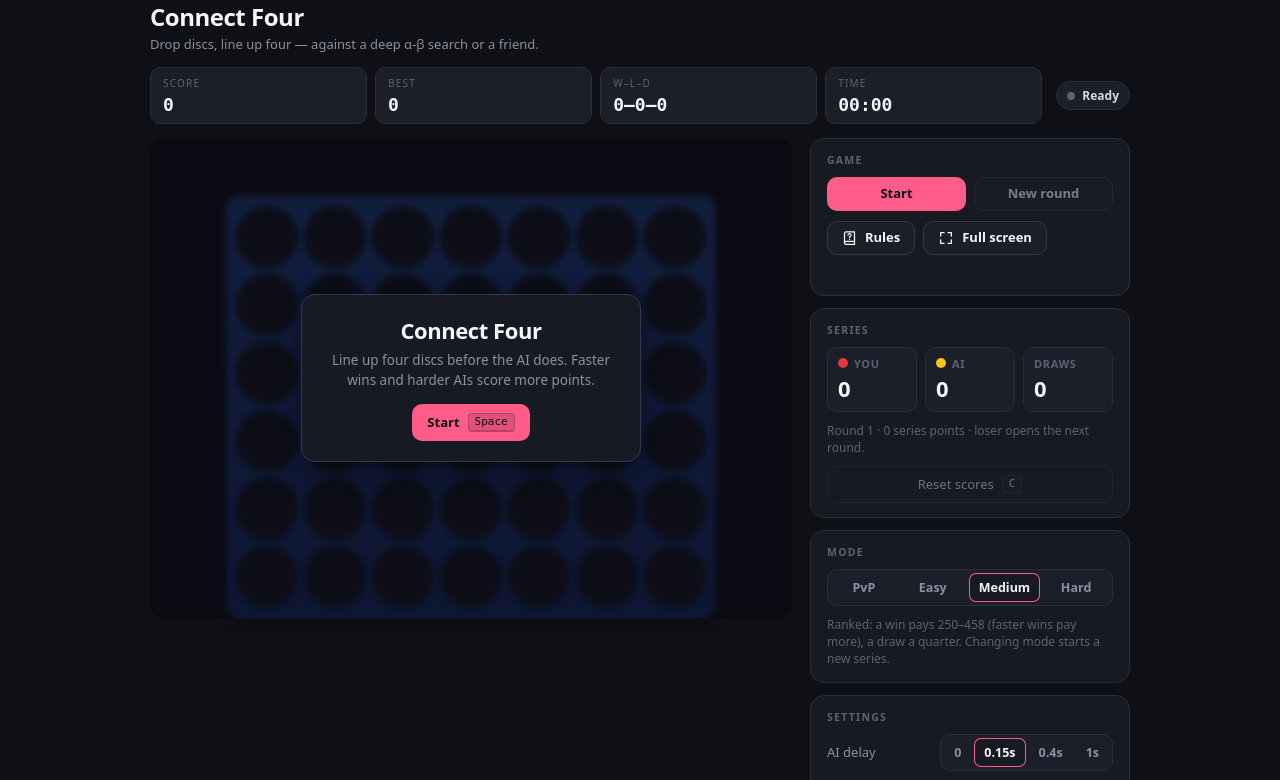
it: <ConnectFourGame /> › a click drops into that column; clicks during the AI turn are ignored
Step 1. Press Space
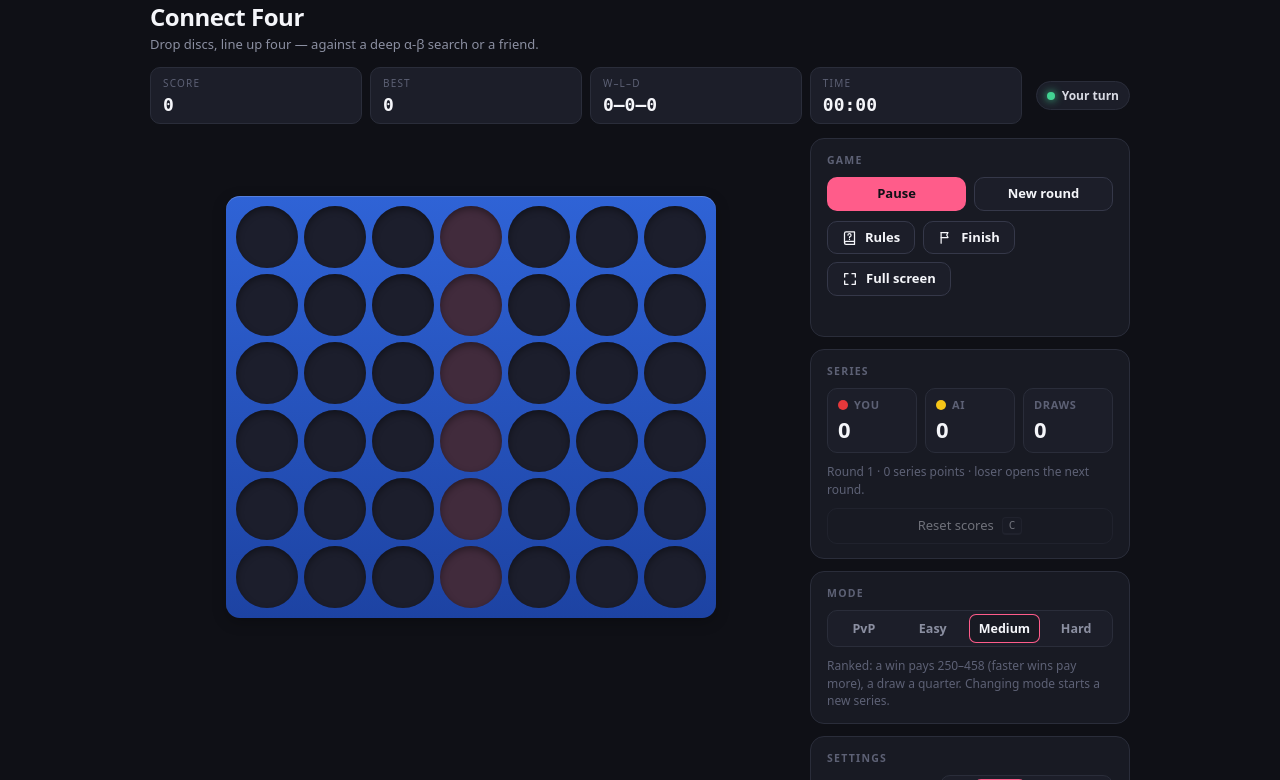
Step 2. Click the button named "Column 2, empty" → {"x": 335, "y": 373}, box [304,138,366,608]
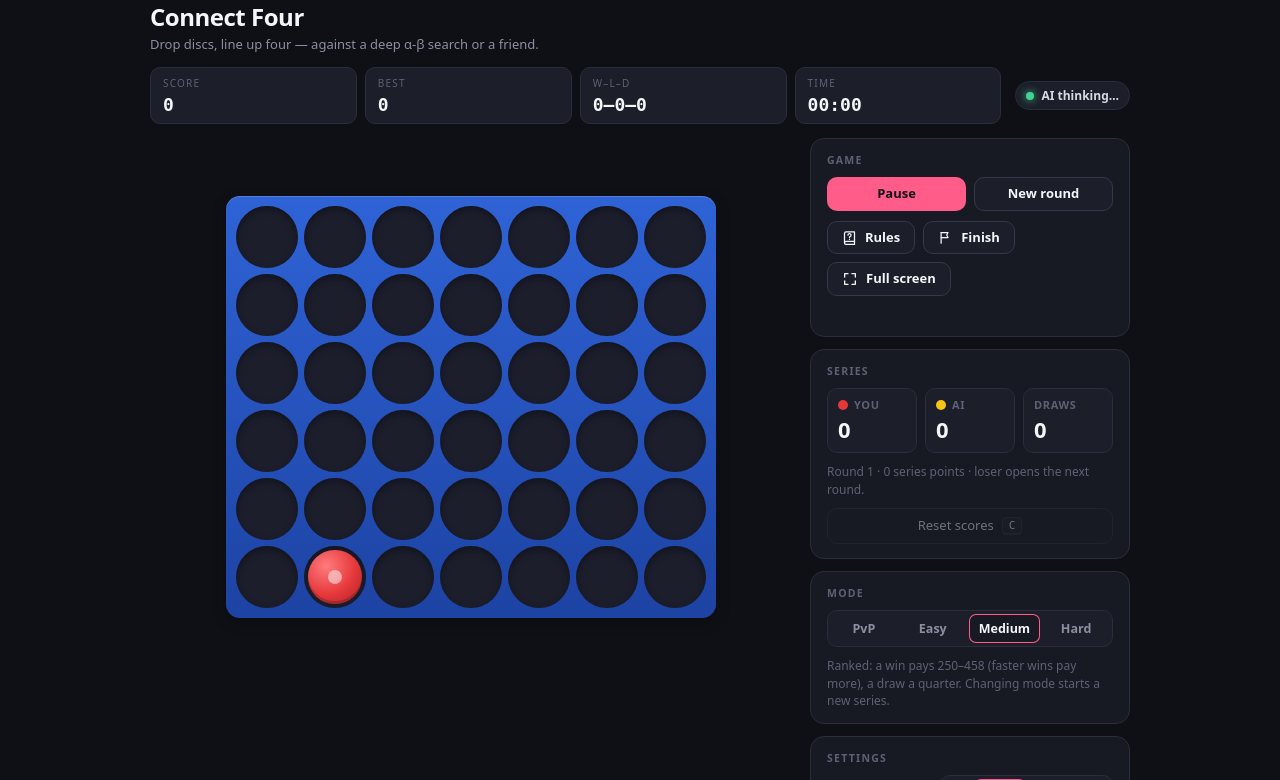
Step 3. Click the button named "Column 5, empty" → {"x": 539, "y": 373}, box [508,138,570,608]
Wait 200 ms
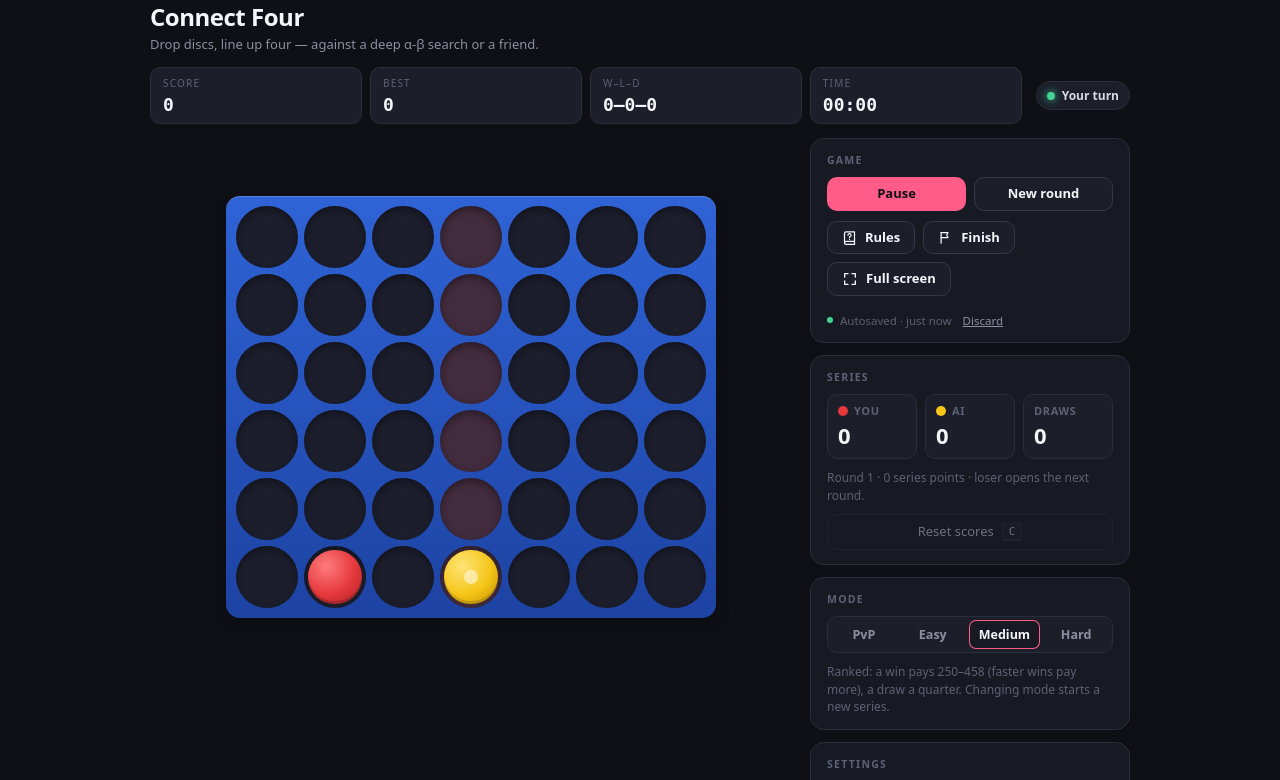
Expected: the message reads "Your turn", [1062,87,1119,104]
